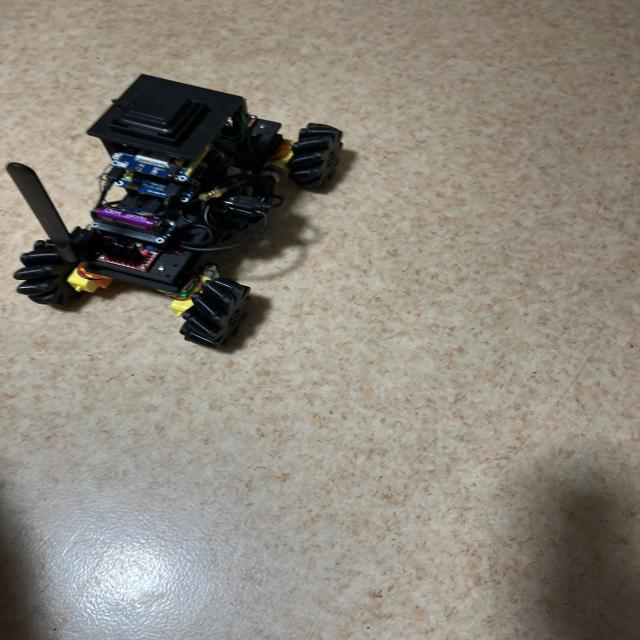robot: (6, 75, 342, 347)
